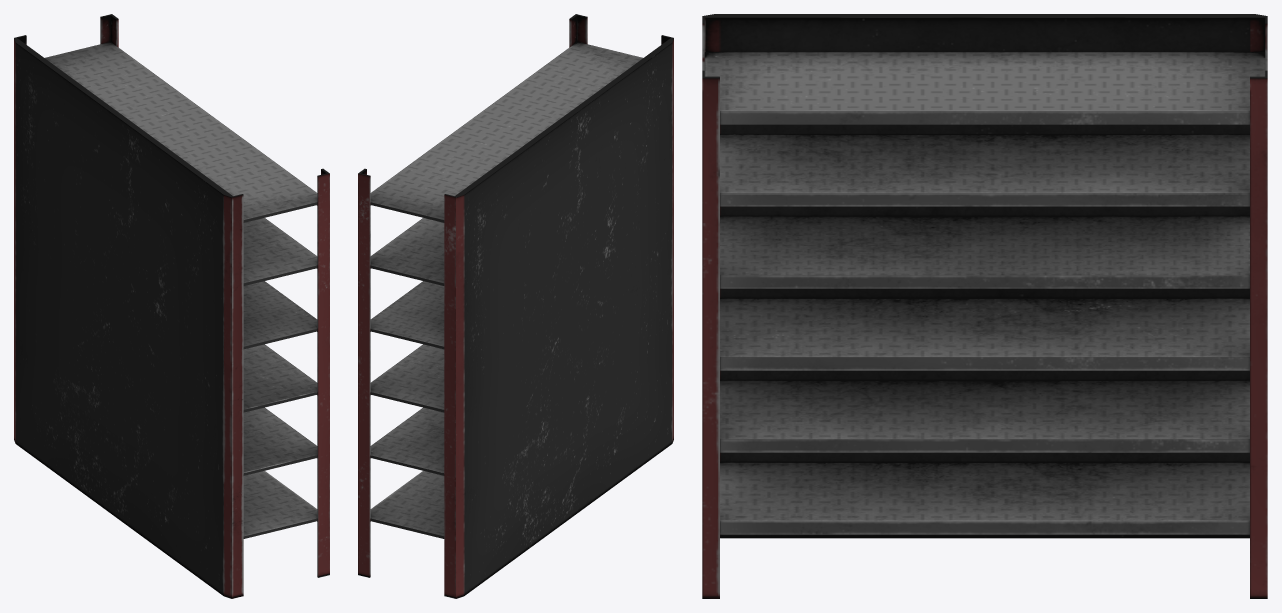
The model's file is estantebod.glb.
3 renders of one model, left to right at view 1: azimuth 30°, elevation 25°; view 2: azimuth 150°, elevation 25°; view 3: azimuth 270°, elevation 25°, orthographic. The views are drawn at different scales.
Parts seen in each view (by area): view 1: Estante; view 2: Estante; view 3: Estante.
Part boxes in pixels (<box>): Estante: <box>14,14,329,598</box>; Estante: <box>358,14,673,598</box>; Estante: <box>702,14,1267,598</box>.
Size of the model in its own units: 0.4407 by 1.67 by 1.64.
1 material, 1 textured.
